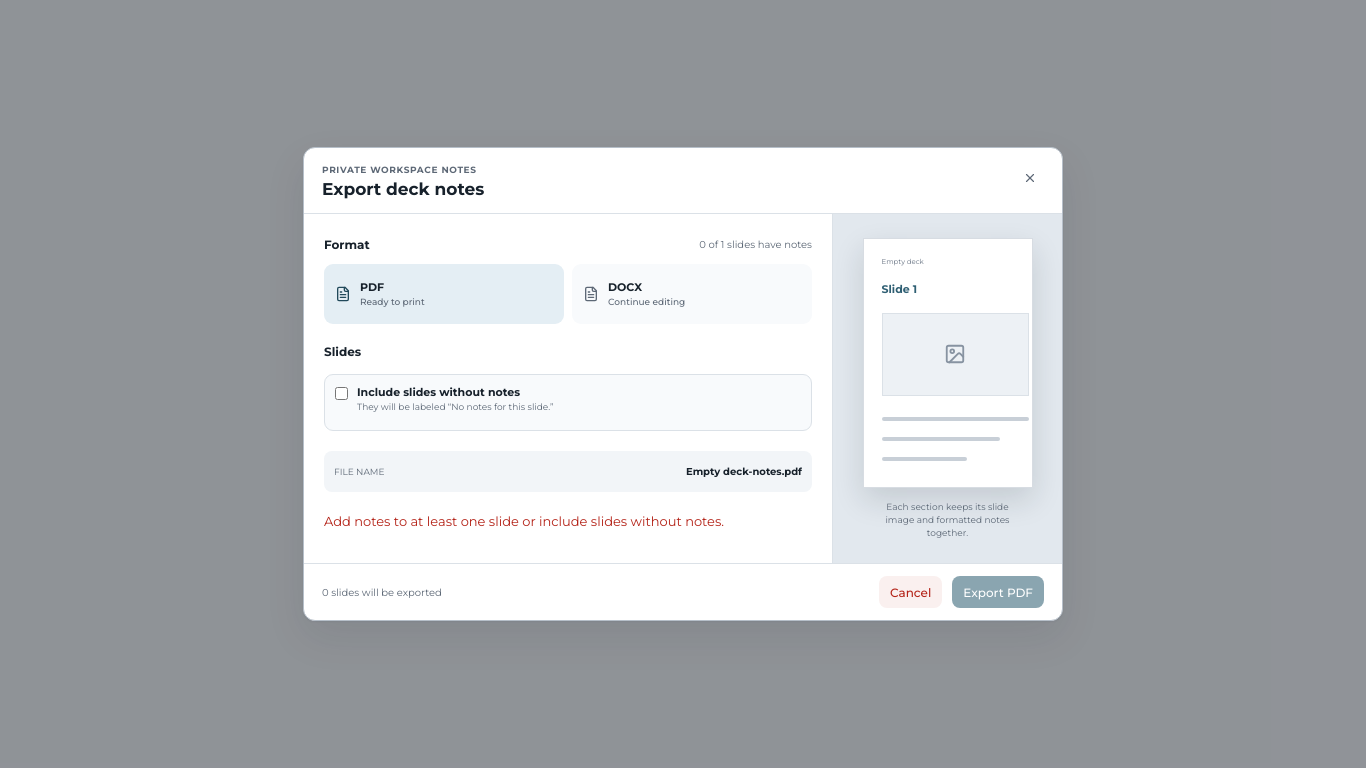
Test: ExportDeckNotesDialog › requires notes unless empty slides are explicitly included
Expected: the button "Export PDF" is disabled, [952,576,1044,608]
Click the checkbox labelled "Include slides without notes".
click(342, 394)  # box [335,387,348,400]
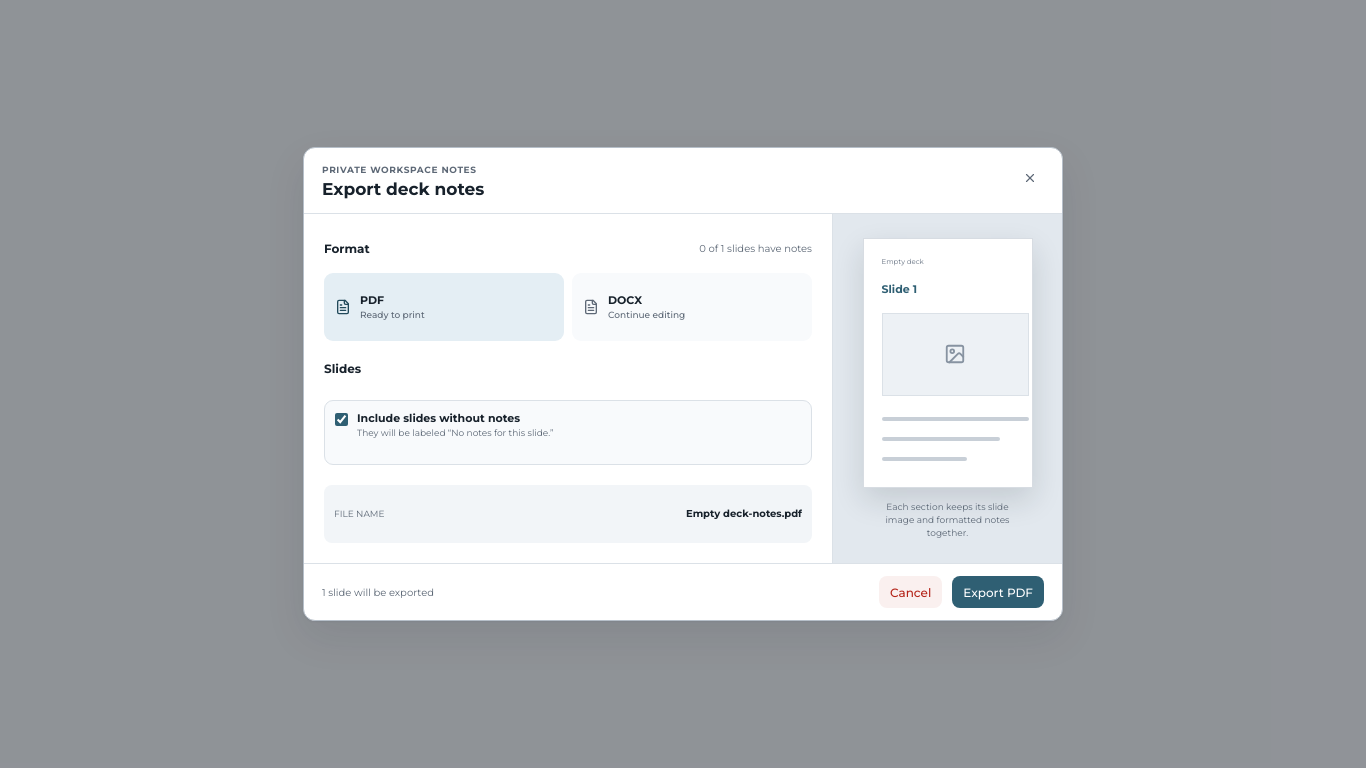
Expected: the button "Export PDF" is enabled, [952,576,1044,608]
Expected: the text "1 slide will be exported" is shown, [322,586,434,599]
